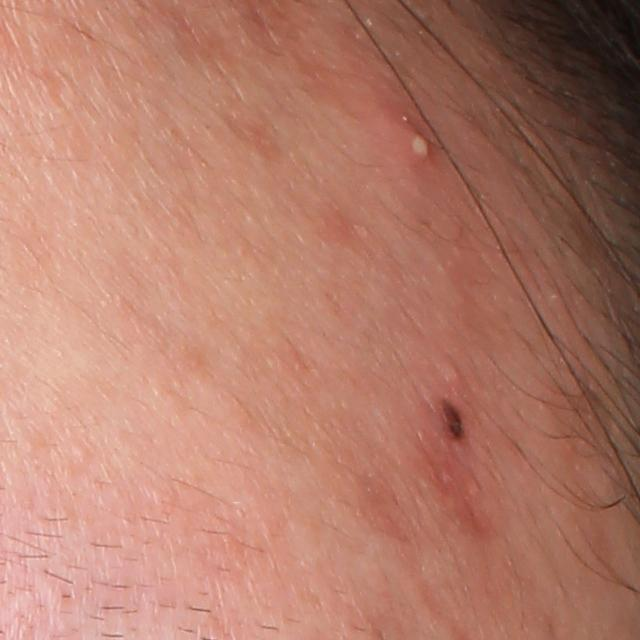nevus: (434, 391, 473, 447)
pustule: (367, 106, 448, 173)
